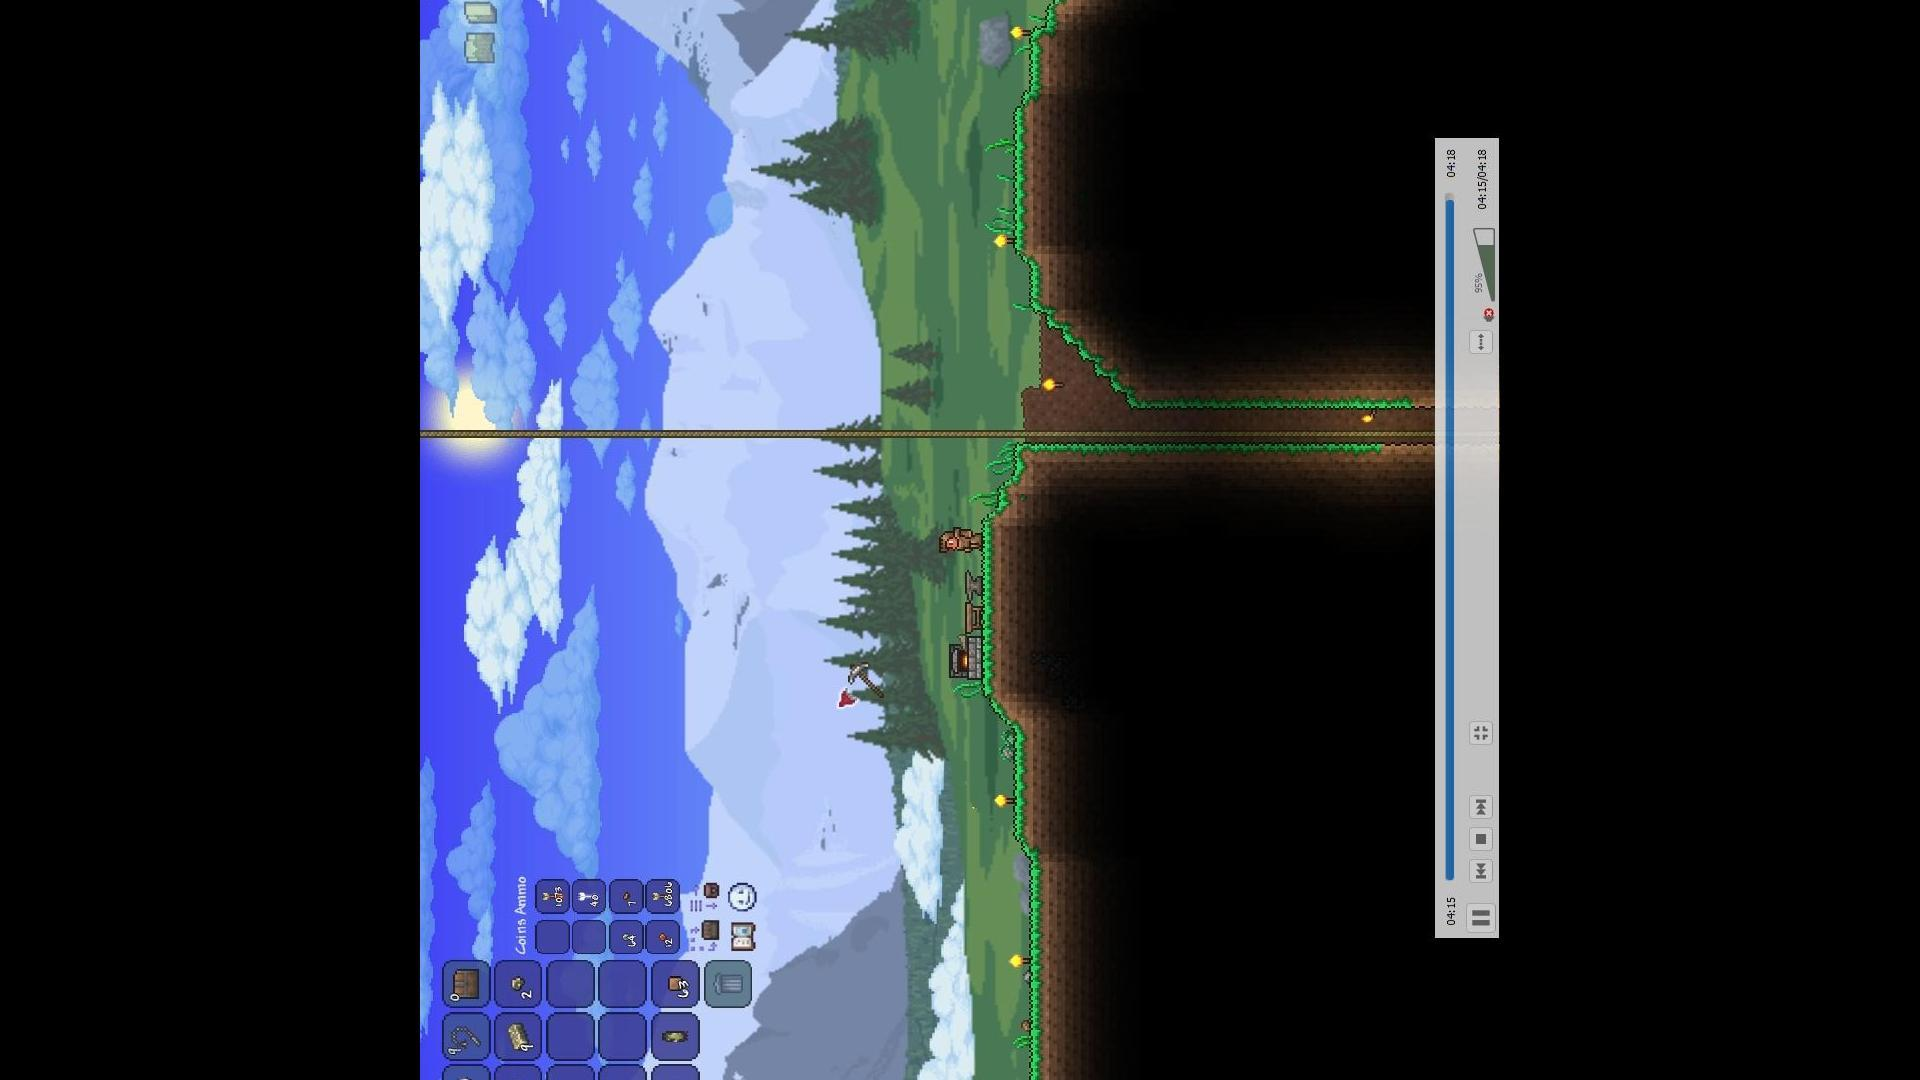anvil: (957, 568, 981, 599)
chest: (448, 964, 481, 1001)
furnace: (945, 633, 988, 682)
